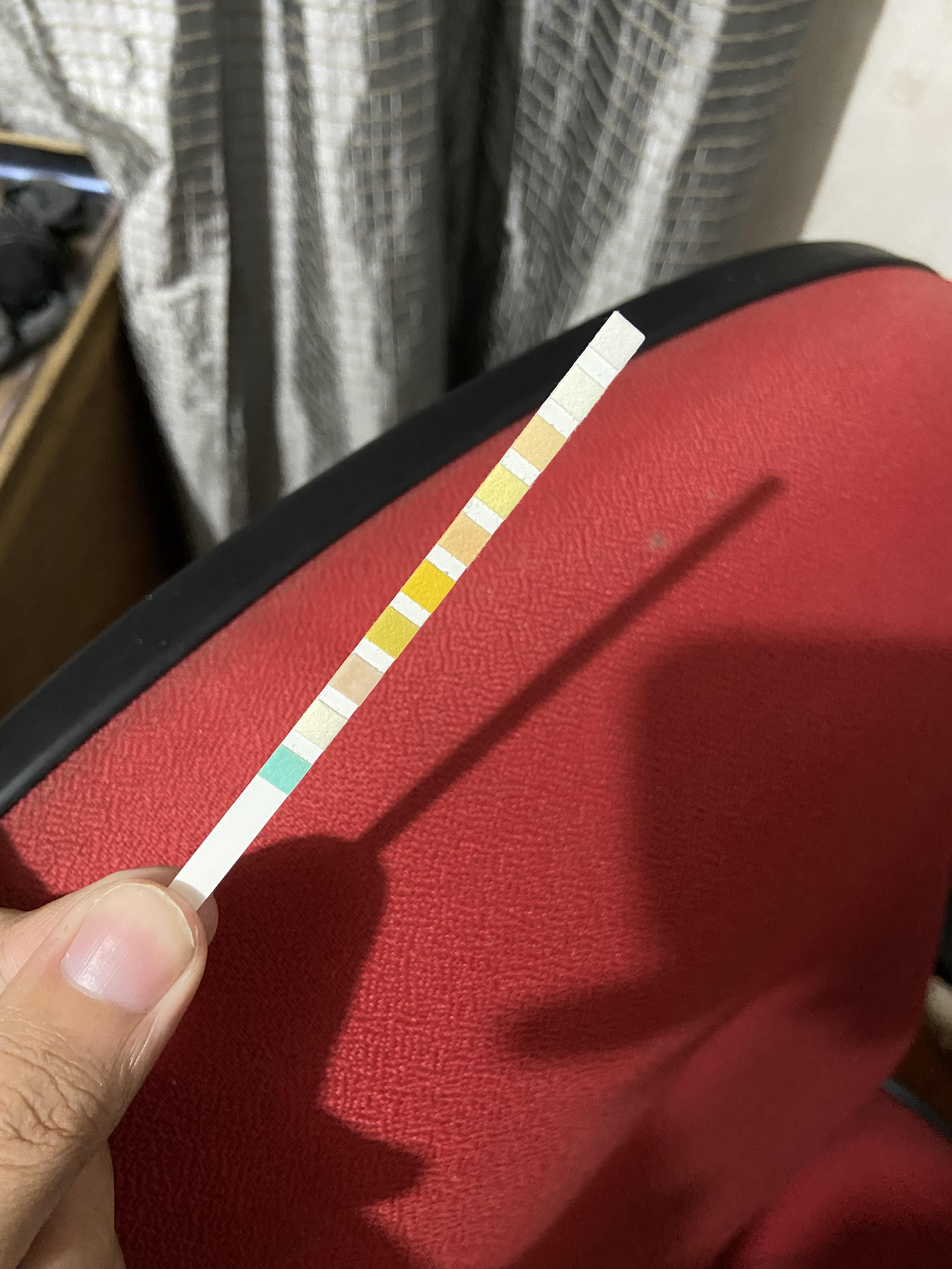Bilirubin: (305, 713, 335, 737)
Blood: (414, 573, 443, 599)
Glucose: (271, 757, 299, 783)
Ketone: (341, 667, 371, 692)
Leukocytes: (603, 327, 633, 355)
Nitrite: (563, 380, 593, 406)
Protein: (486, 477, 517, 505)
SpGravity: (378, 619, 406, 646)
Urobilinogen: (525, 430, 555, 456)
pH: (451, 524, 479, 552)
strip: (171, 310, 646, 906)
